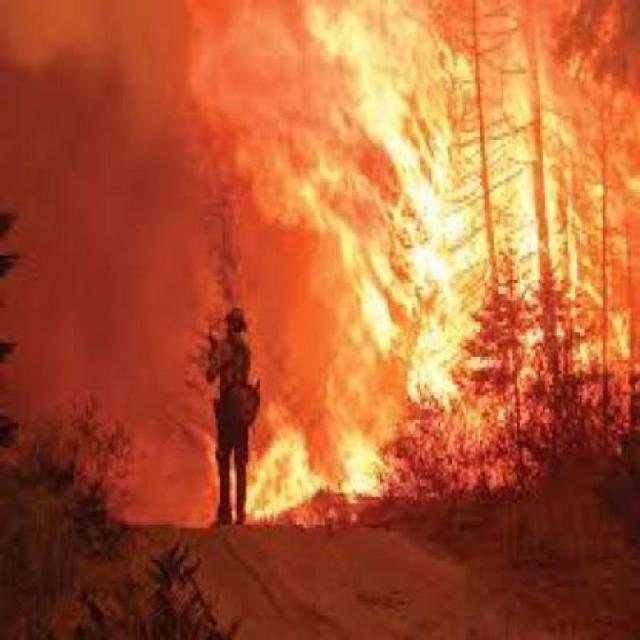Fire: (201, 0, 640, 520)
Smoke: (0, 38, 170, 470)
